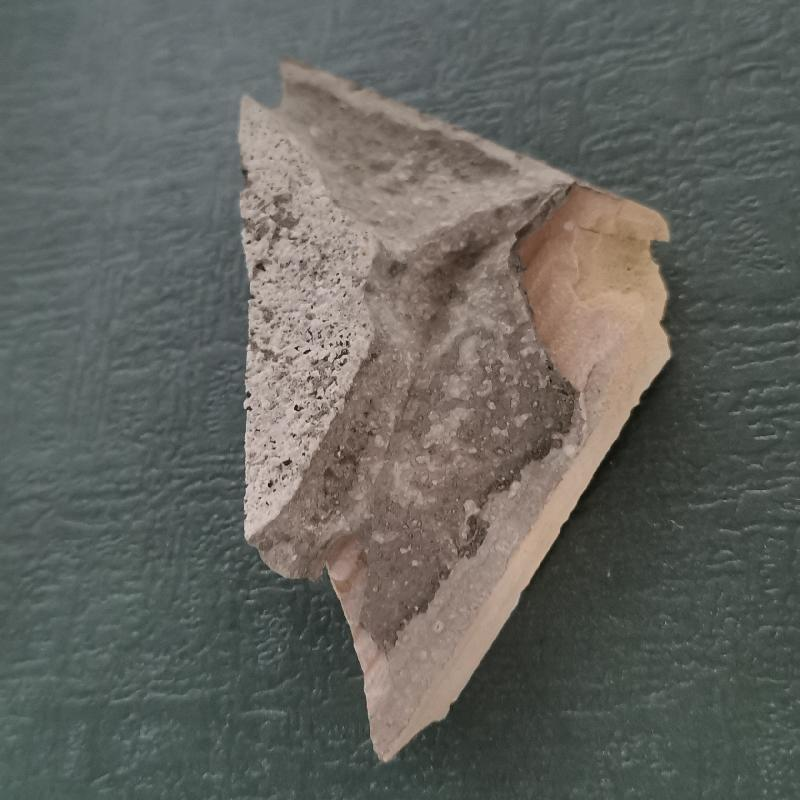tile: (199, 53, 690, 774)
